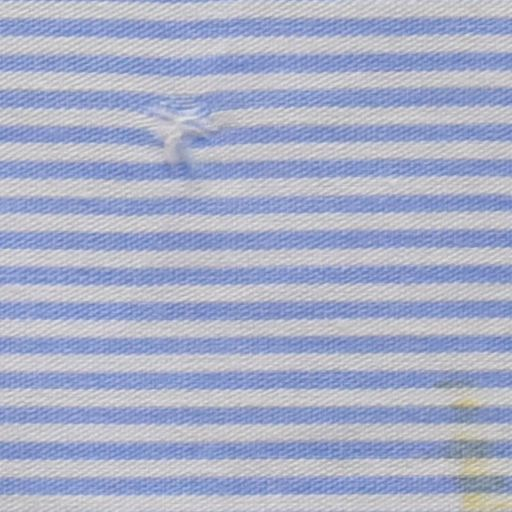defect: (458, 408, 512, 512), (152, 106, 213, 162)
